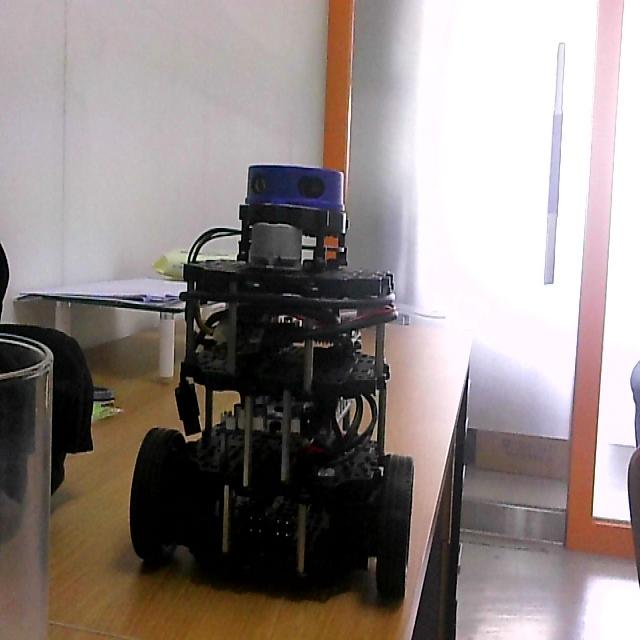turtle: (129, 160, 415, 611)
